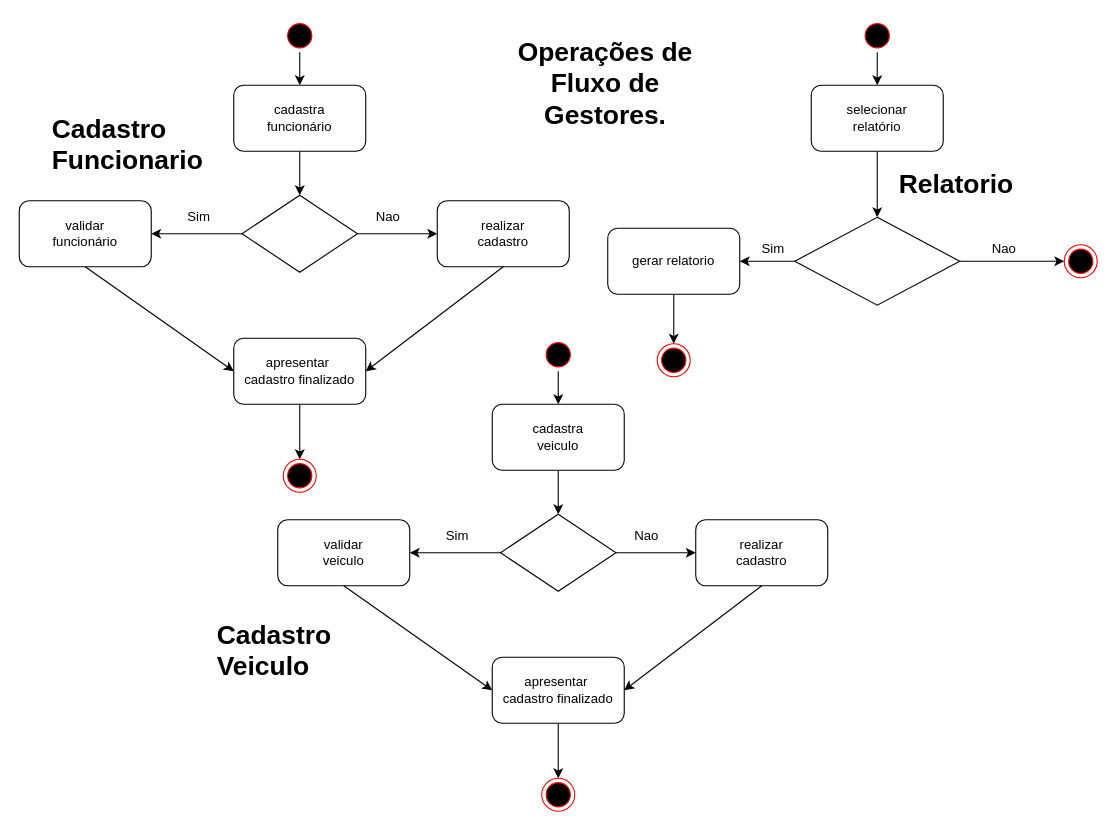
This 1117x831 diagram has some shape labels left out. The shapes that lost their labels are listed below. From the top down, each one's centre as x and y in pixels, then its label:
At [299,233]: "funcionario cadastrado?".
At [877,260]: "relatorio satifaz?".
At [557,552]: "veiculo cadastrado".
